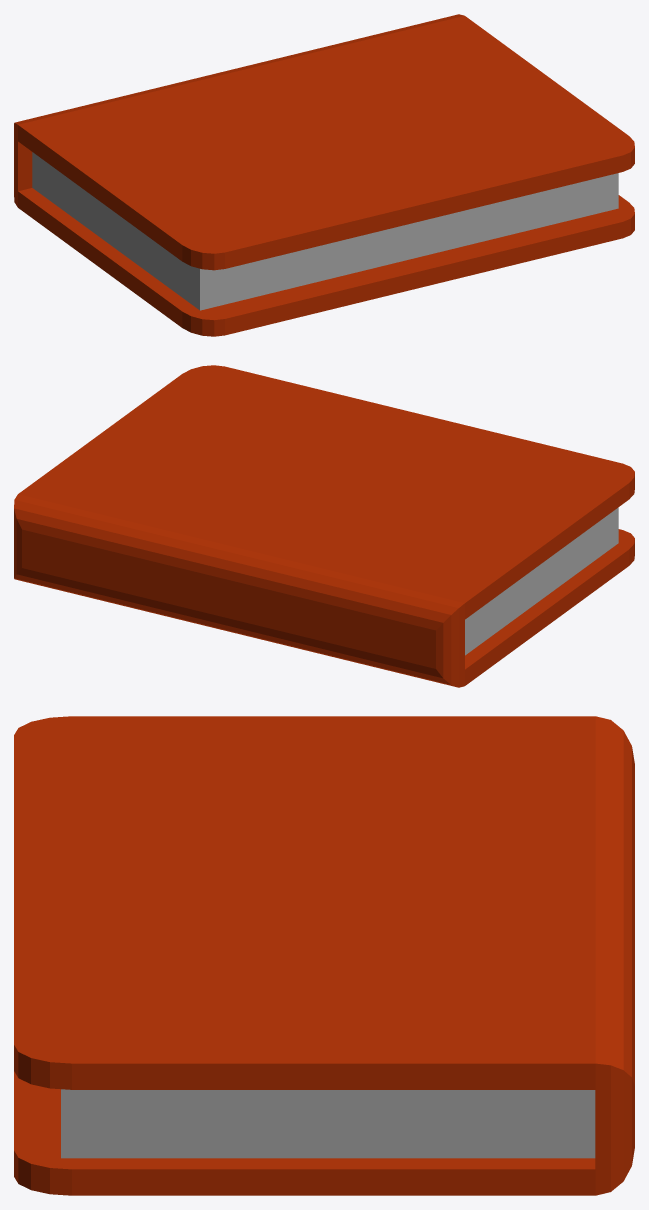
Rendered from bookfbx.fbx.
3 views of the same model, one above another, from view 1: azimuth 30°, elevation 25°; view 2: azimuth 150°, elevation 25°; view 3: azimuth 270°, elevation 25° (orthographic). The views are drawn at different scales.
Parts seen in each view (by area): view 1: Cube.001, Cube; view 2: Cube.001, Cube; view 3: Cube.001, Cube.
Part boxes in pixels (box(x1,y1,x2,y2)): Cube.001: box(14, 14, 634, 336); Cube: box(32, 152, 618, 310); Cube.001: box(14, 365, 634, 687); Cube: box(465, 507, 618, 655); Cube.001: box(14, 716, 634, 1195); Cube: box(61, 1089, 595, 1158).
Bounding box in the file's own units: 283 × 50.18 × 214.
